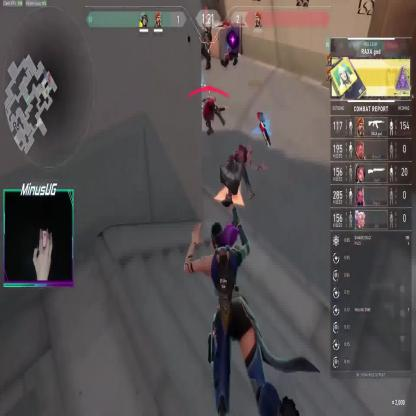enemy: (196, 6, 213, 68)
enemy_head: (204, 5, 209, 18)
